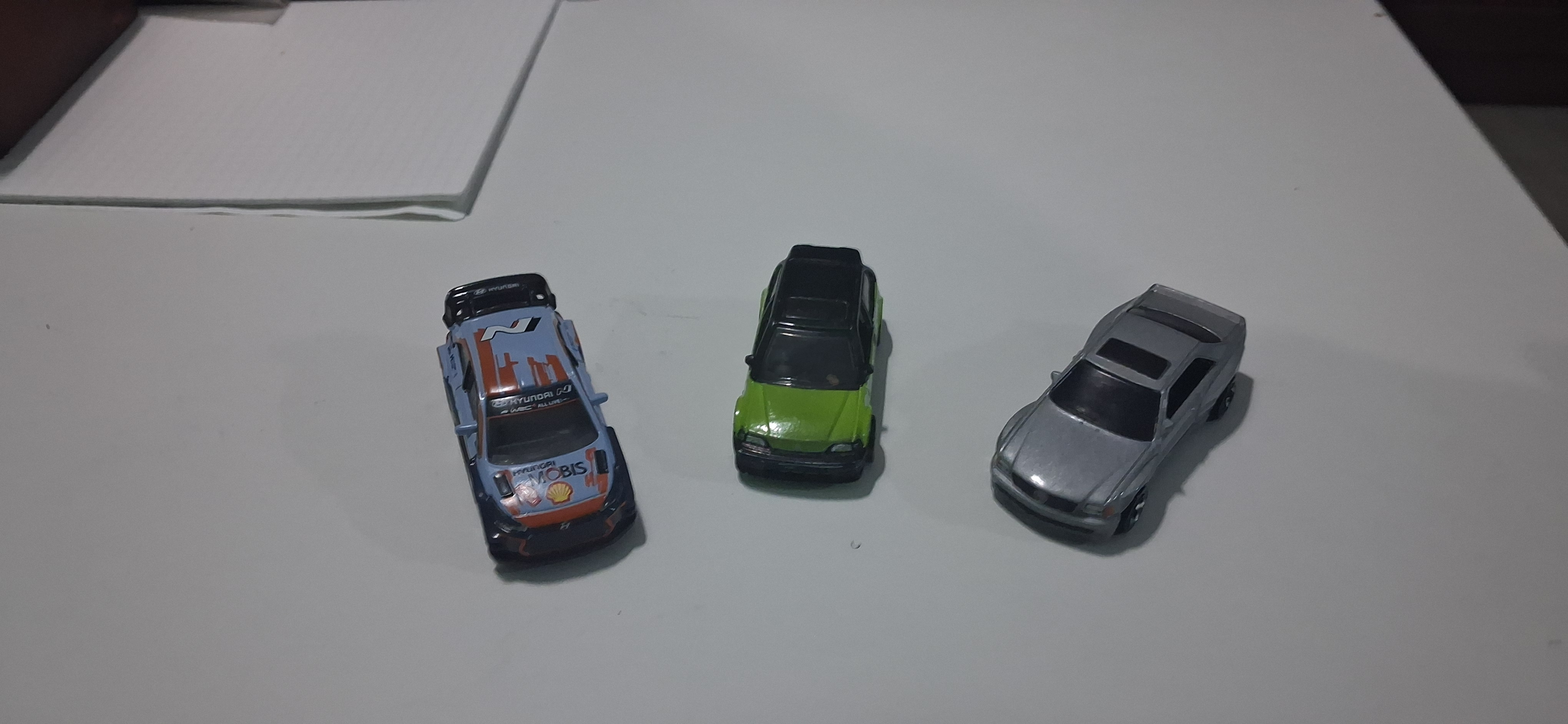Honda_Civic: (709, 186, 900, 535)
Hyundai_I20_WRC: (376, 259, 651, 607)
Mercedes_Benz_560_SEC_AMG: (961, 190, 1274, 591)
